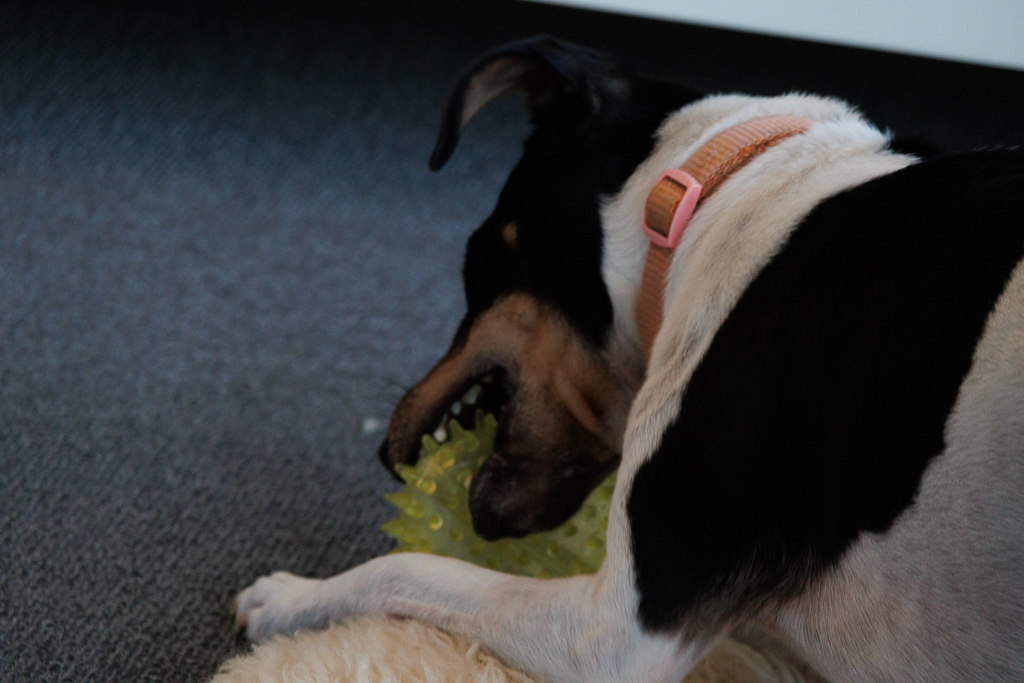Dog: (212, 26, 1024, 683)
